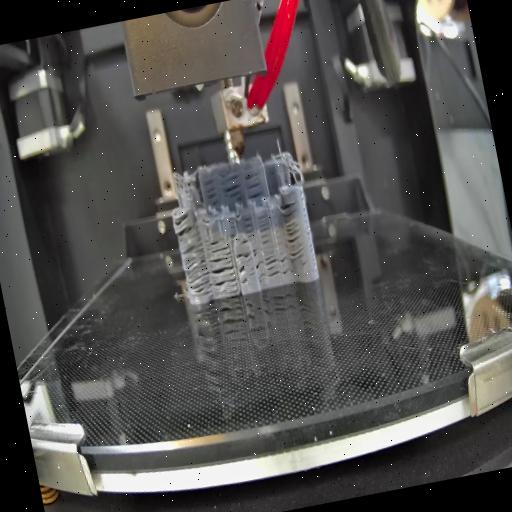cracks: (204, 236, 239, 294), (279, 199, 308, 263), (180, 240, 212, 297), (263, 250, 292, 280), (219, 172, 245, 204), (172, 208, 198, 238), (242, 170, 265, 202), (203, 177, 222, 208), (258, 214, 274, 248), (234, 248, 258, 262), (242, 214, 256, 237), (226, 215, 238, 239), (256, 258, 267, 284), (238, 265, 250, 287), (238, 236, 250, 246)
